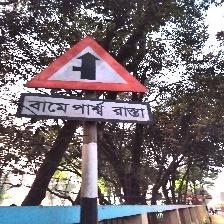Side-road-left: (20, 34, 152, 125)
